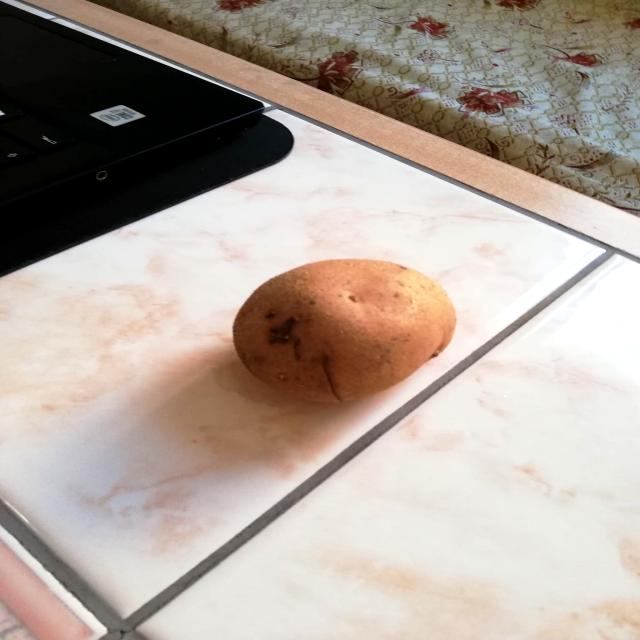potato: (222, 246, 466, 410)
